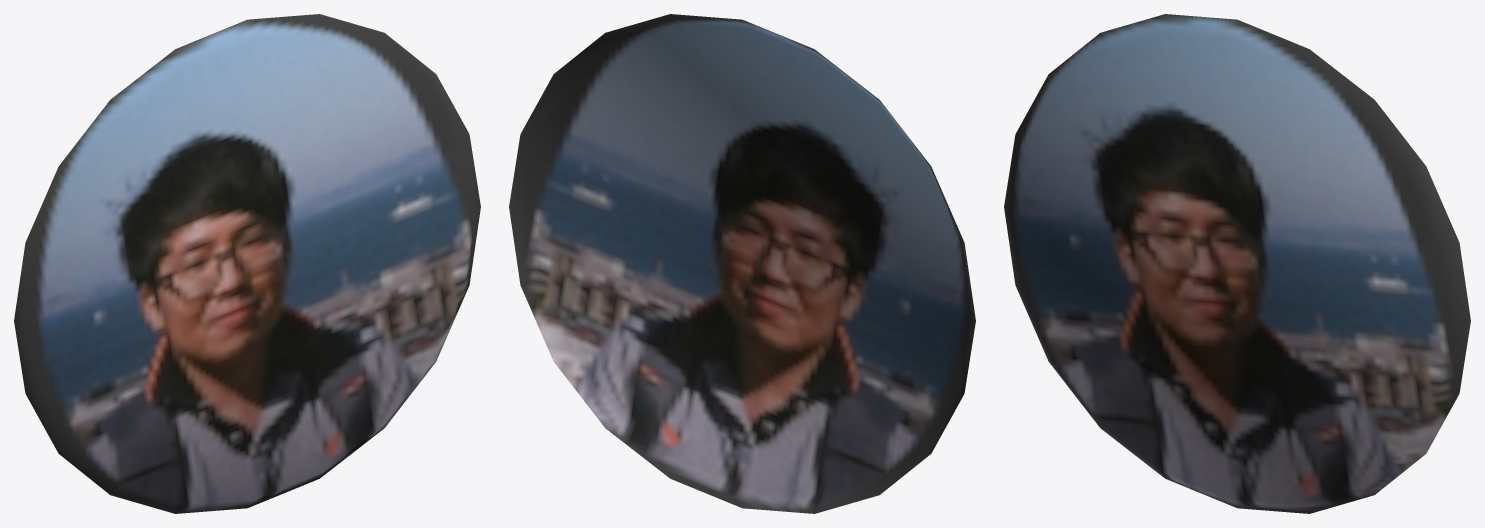
The model's file is battle_player_portrait.DAE.
3 renders of one model, left to right at view 1: azimuth 30°, elevation 25°; view 2: azimuth 150°, elevation 25°; view 3: azimuth 330°, elevation 25°, orthographic.
Visible parts, largest first — view 1: Object022; view 2: Object022; view 3: Object022.
Boxes of the visible parts, x1=… form: Object022: x1=14, y1=14, x2=480, y2=513; Object022: x1=509, y1=14, x2=975, y2=513; Object022: x1=1004, y1=14, x2=1470, y2=513.
Bounding box in the file's own units: 121 × 121 × 3.29.
Materials: 1 (1 with a texture image).
